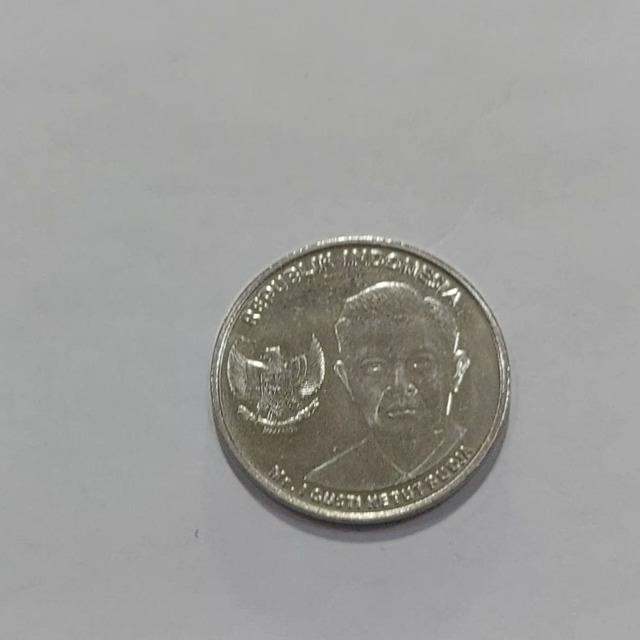Rp100: (209, 233, 512, 526), (296, 278, 474, 498)
